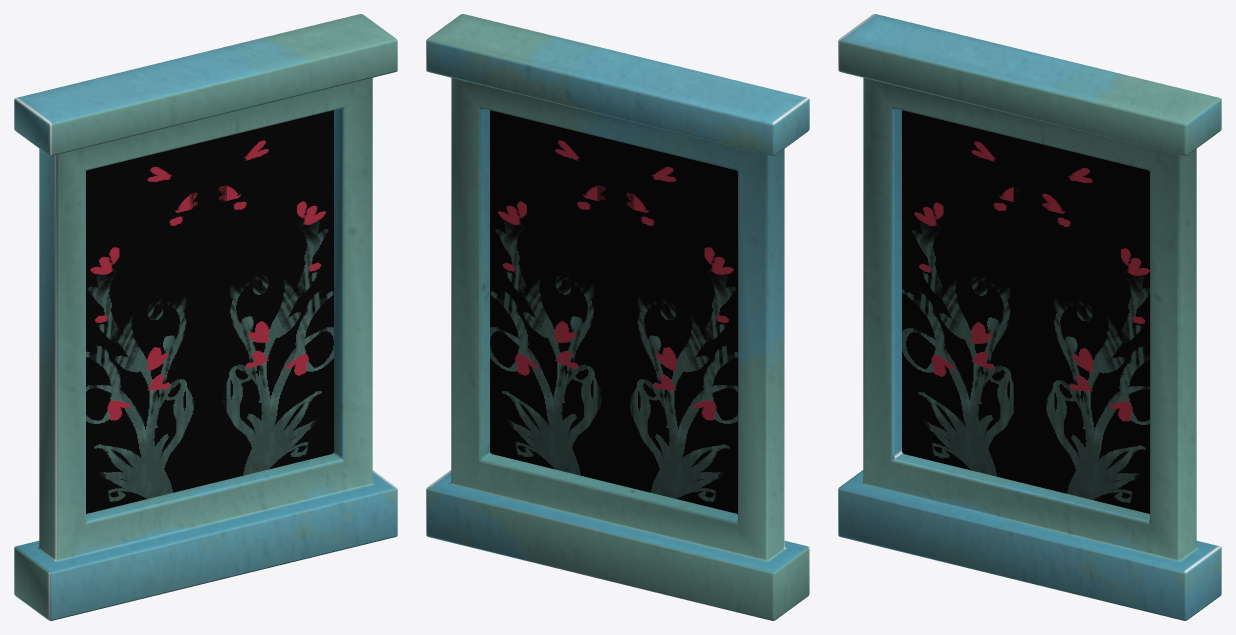
The model's file is TOMB_WINDOW_2_001.obj.
3 views of the same model, side by side, from view 1: azimuth 30°, elevation 25°; view 2: azimuth 150°, elevation 25°; view 3: azimuth 330°, elevation 25° (orthographic).
Parts seen in each view (by area): view 1: TOMB_WINDOW_2_001; view 2: TOMB_WINDOW_2_001; view 3: TOMB_WINDOW_2_001.
Boxes of the visible parts, bbox=[...] form: TOMB_WINDOW_2_001: bbox=[14, 14, 397, 620]; TOMB_WINDOW_2_001: bbox=[426, 14, 809, 620]; TOMB_WINDOW_2_001: bbox=[838, 14, 1221, 620].
Size of the model in its own units: 2.2 by 3 by 0.4.
